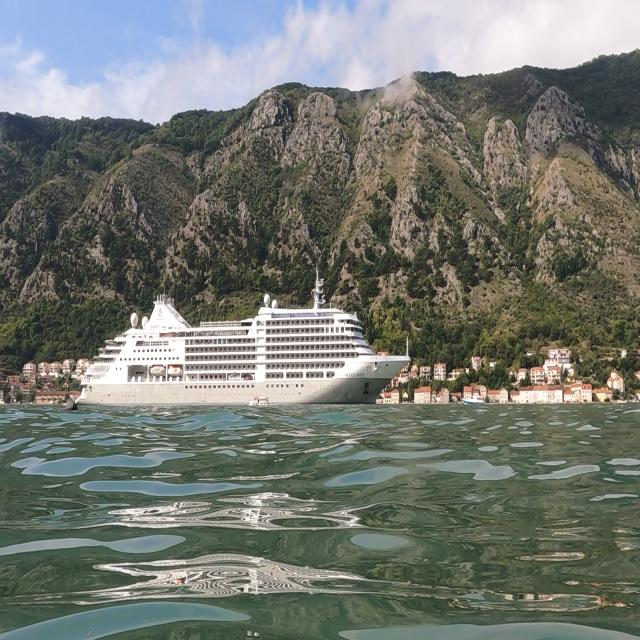boat: (72, 263, 412, 412)
buoy: (61, 392, 83, 421)
